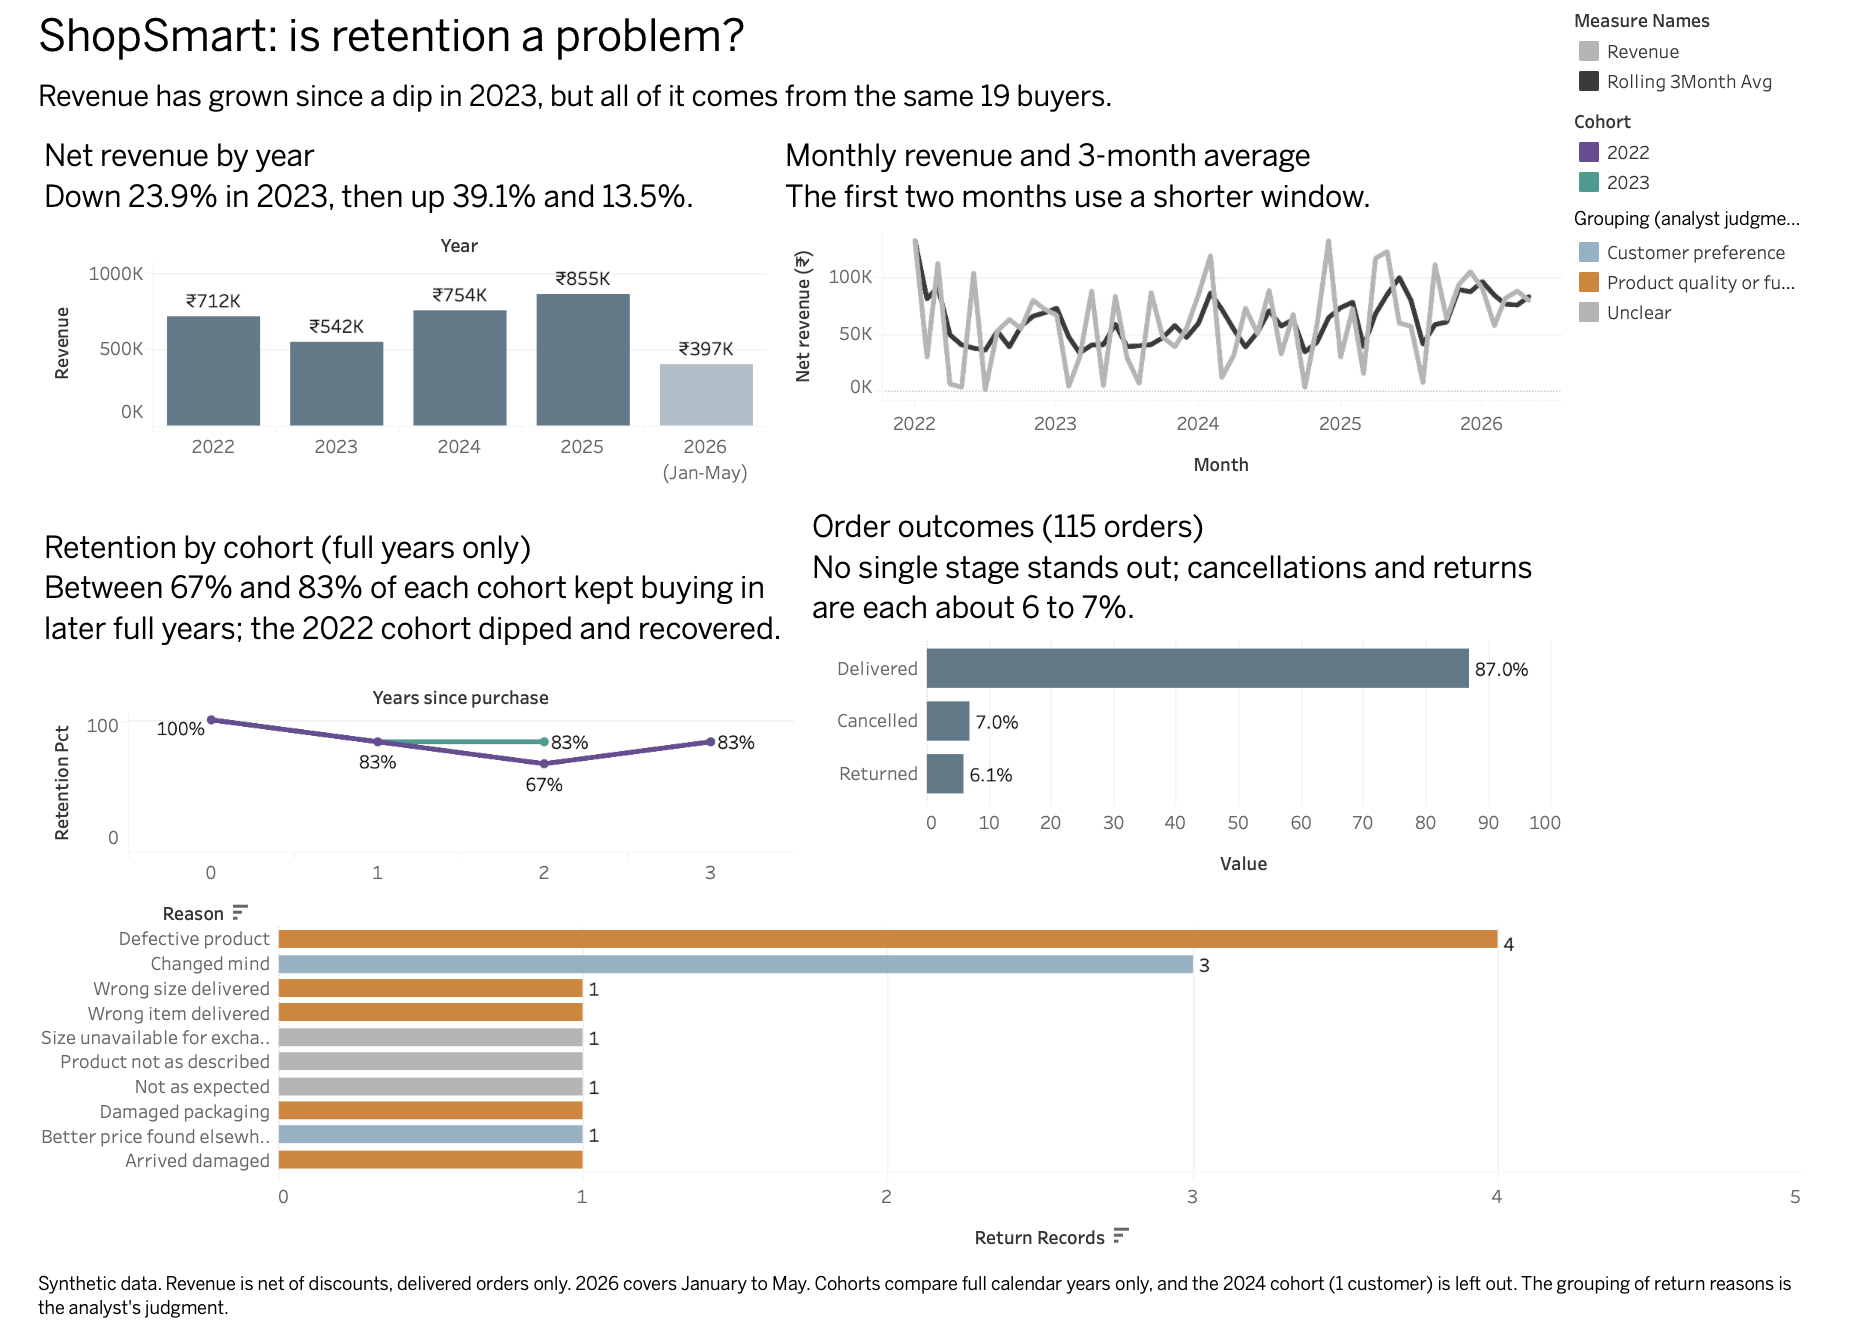

This screenshot's page, from the dashboard's own definition file:
{"tool":"tableau","page":{"name":"Dashboard 2","canvas":[1200,900],"ordinal":1},"visuals":[{"type":"title","box":[8,8,1024,45]},{"type":"legend","title":"2.2 Monthly revenue","param":"[federated.1ylmvgk0nbzzlw1autcg91abk5r1].[:Measure Names]","box":[1032,8,160,66]},{"type":"text","box":[8,53,1024,32]},{"type":"legend","title":"2.3 Retention by cohort","param":"[federated.0zgrosd0hmdeii17dsv9t1s9r1m9].[none:Calculation_5301353368543240:nk]","box":[1032,74,160,66]},{"type":"worksheet","title":"2.1 Revenue by year","mark":"Automatic","rows":["revenue"],"cols":["Calculation_5301353215500292"],"box":[8,85,494,247.7]},{"type":"worksheet","title":"2.2 Monthly revenue","mark":"Line","cols":["Calculation_5301353217822726"],"box":[502,85,530,247.7]},{"type":"legend","title":"2.5 Return reasons","param":"[federated.1na1jm711npeja1fcjn2h0vbap7p].[Reason (group)]","box":[1032,140,160,86]},{"type":"worksheet","title":"2.3 Retention by cohort","mark":"Line","rows":["retention_pct"],"cols":["Calculation_5301353368662025"],"box":[8,332.7,512,267.3]},{"type":"worksheet","title":"2.4 Order outcomes","mark":"Automatic","box":[520,332.7,512,267.3]},{"type":"worksheet","title":"2.5 Return reasons","mark":"Automatic","rows":["reason"],"cols":["return_records"],"box":[8,600,1184,249]},{"type":"text","box":[8,849,1184,43]}]}

Visuals, with their boxes on the page's 1200x900 design canvas (x1, y1, x2, y2). These are canvas units, not pixel positions in the 1850x1338 screenshot, which may show the page scaled, cropped or inside an application window:
title: (8,8,1032,53)
"2.2 Monthly revenue" legend: (1032,8,1192,74)
text: (8,53,1032,85)
"2.3 Retention by cohort" legend: (1032,74,1192,140)
"2.1 Revenue by year" worksheet: (8,85,502,333)
"2.2 Monthly revenue" worksheet (Line marks): (502,85,1032,333)
"2.5 Return reasons" legend: (1032,140,1192,226)
"2.3 Retention by cohort" worksheet (Line marks): (8,333,520,600)
"2.4 Order outcomes" worksheet: (520,333,1032,600)
"2.5 Return reasons" worksheet: (8,600,1192,849)
text: (8,849,1192,892)
